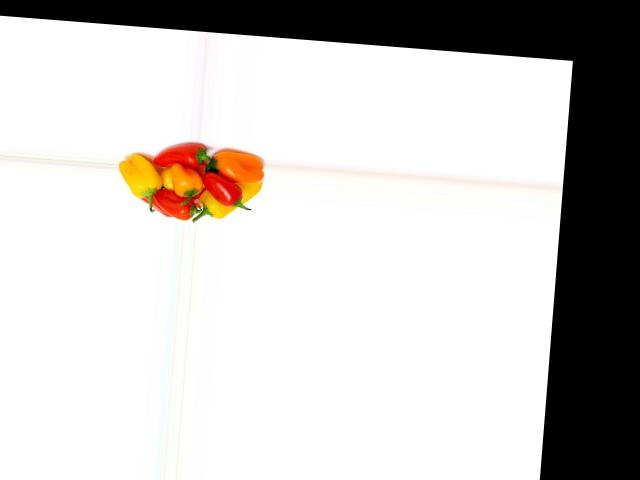bell_pepper: (197, 176, 261, 225)
